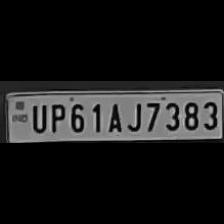1: (88, 100, 104, 132)
3: (162, 98, 180, 132), (200, 97, 218, 130)
6: (67, 101, 87, 133)
7: (142, 98, 160, 132)
8: (180, 99, 200, 131)
A: (104, 100, 124, 132)
J: (124, 98, 142, 132)
P: (47, 100, 65, 134)
U: (29, 102, 47, 132)
